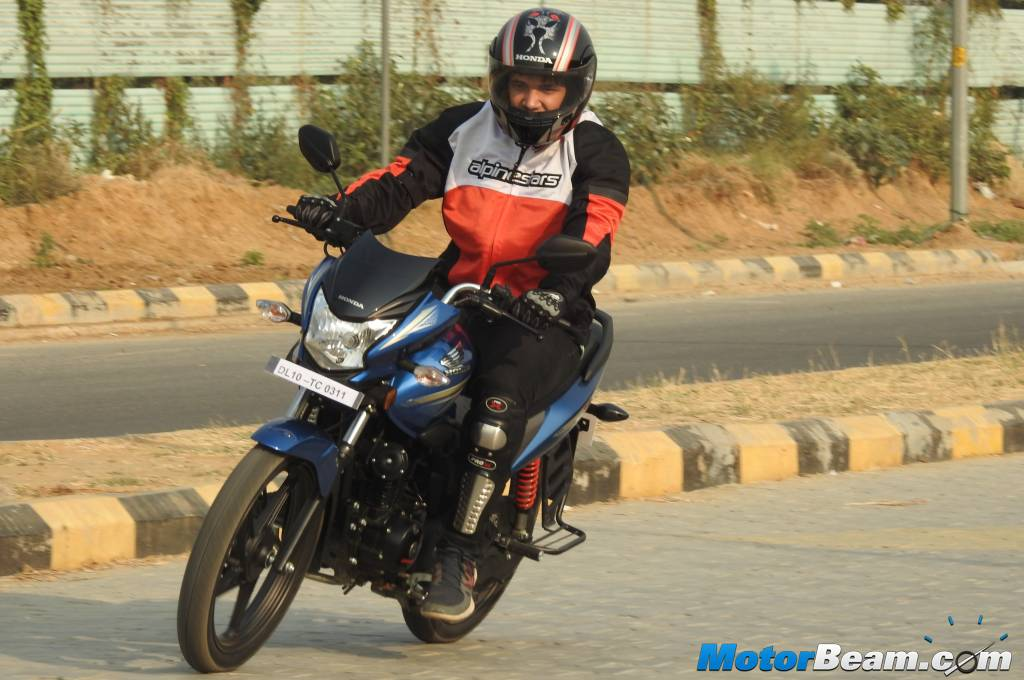helmet: (486, 9, 595, 129)
